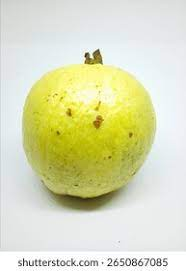guava: (19, 0, 169, 227)
